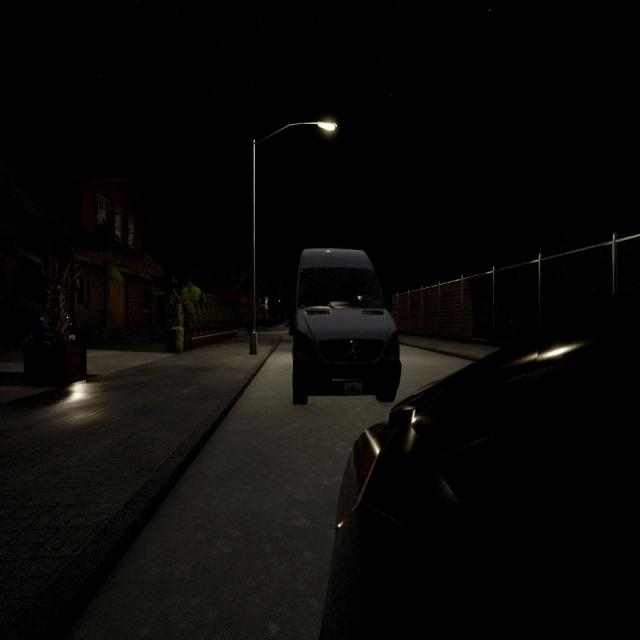Vehicle: (320, 286, 640, 638), (292, 249, 403, 403)
